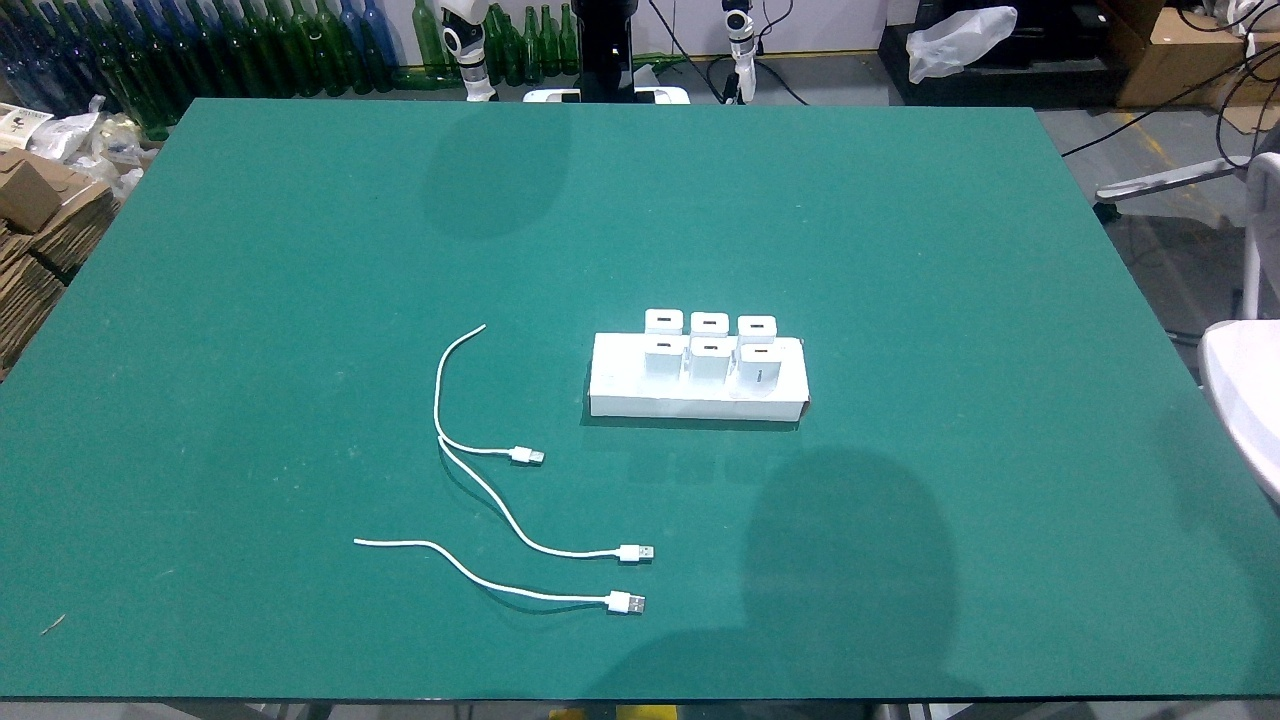usb_a_port: (654, 316, 674, 324), (655, 341, 673, 348), (753, 348, 770, 355), (701, 345, 720, 351), (700, 320, 718, 326), (749, 324, 766, 330)
